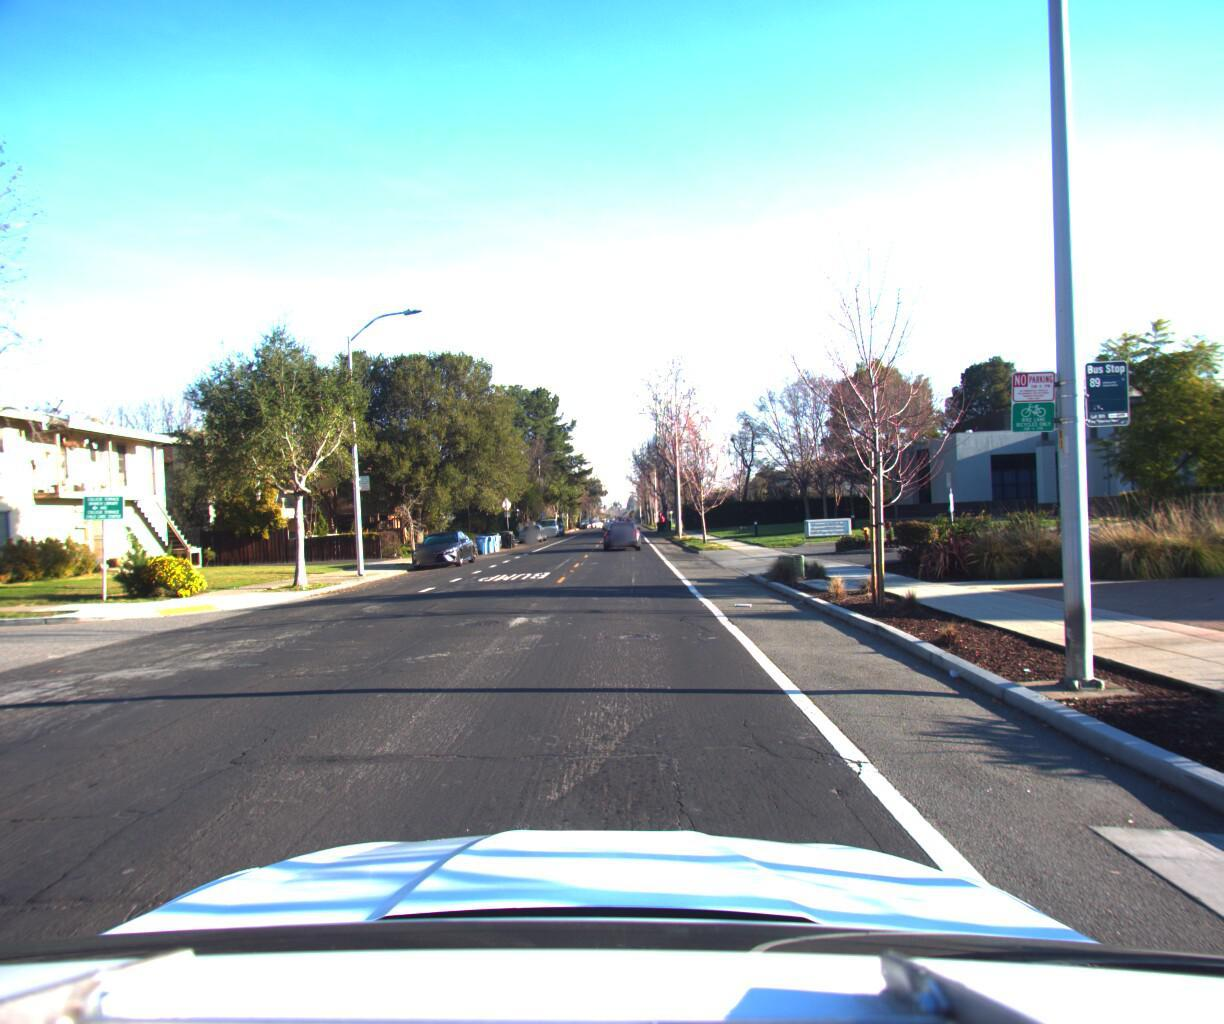car: (405, 522, 480, 563), (599, 511, 642, 545), (513, 515, 548, 537), (535, 509, 561, 530)
